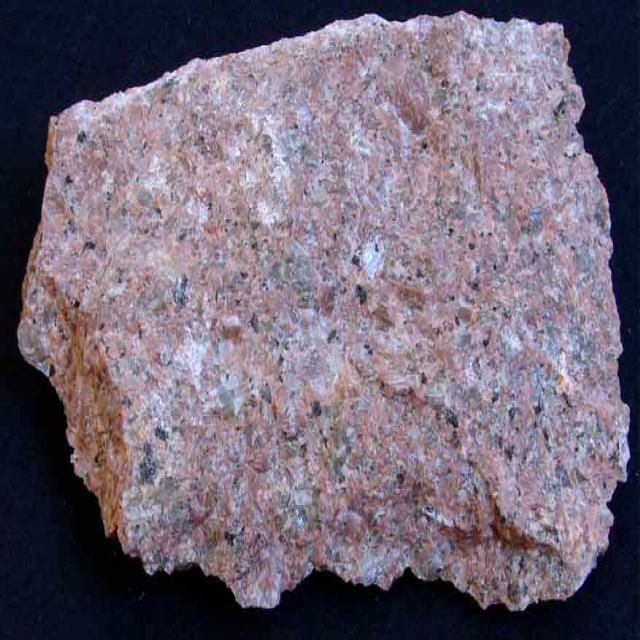Igneous: (14, 12, 633, 616)
